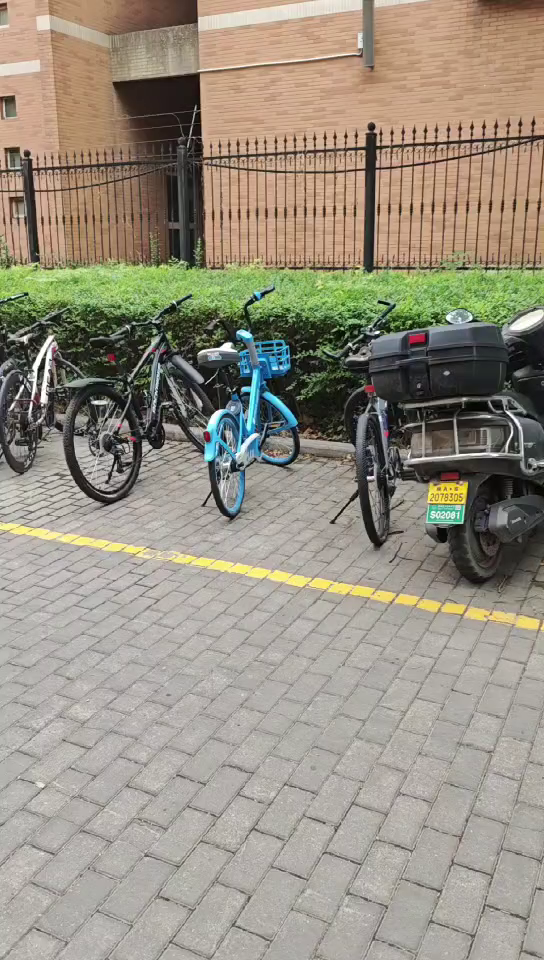others: (364, 319, 544, 606), (73, 310, 197, 517), (318, 322, 410, 542), (10, 296, 71, 457)
shared_bike_haluo: (193, 280, 303, 520)
